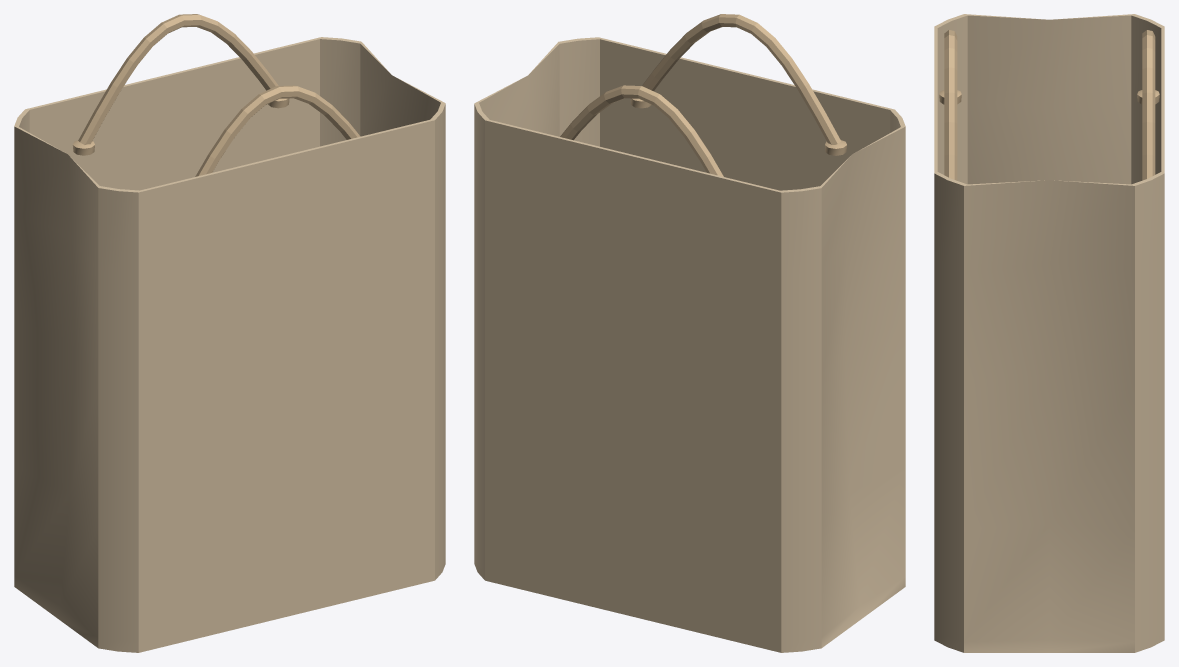
Rendered from fresh-produce-and-groceries-paper-grocery-bag-784f600d__24452.glb.
3 views of the same model, side by side, from view 1: azimuth 30°, elevation 25°; view 2: azimuth 150°, elevation 25°; view 3: azimuth 270°, elevation 25° (orthographic).
Parts seen in each view (by area): view 1: paper-grocery-bag; view 2: paper-grocery-bag; view 3: paper-grocery-bag.
Part boxes in pixels (left/top/right/bottom): paper-grocery-bag: left=14, top=14, right=445, bottom=652; paper-grocery-bag: left=474, top=14, right=905, bottom=652; paper-grocery-bag: left=934, top=14, right=1164, bottom=652.
Bounding box in the file's own units: 0.3 × 0.4329 × 0.17.
